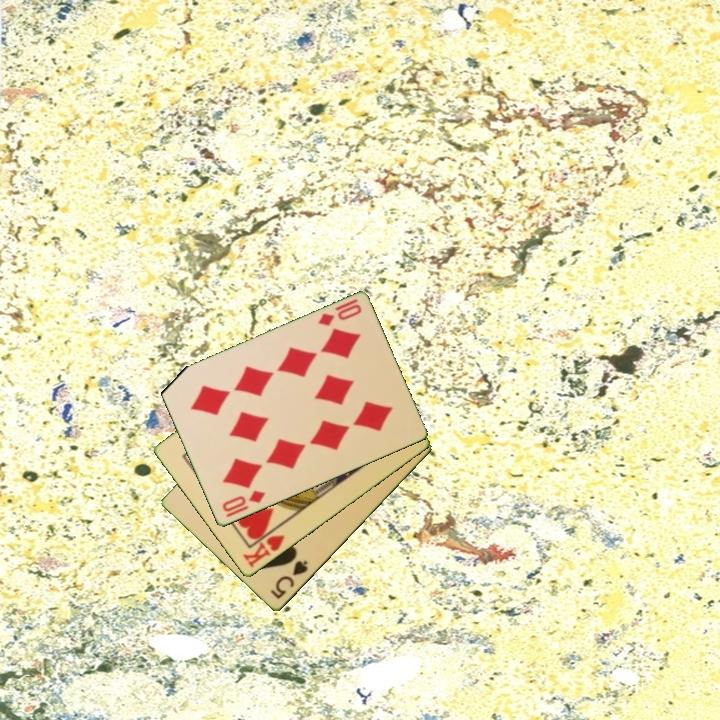10d: (218, 487, 268, 515), (314, 301, 364, 329)
5s: (267, 557, 311, 602)
Kh: (239, 523, 288, 571)
